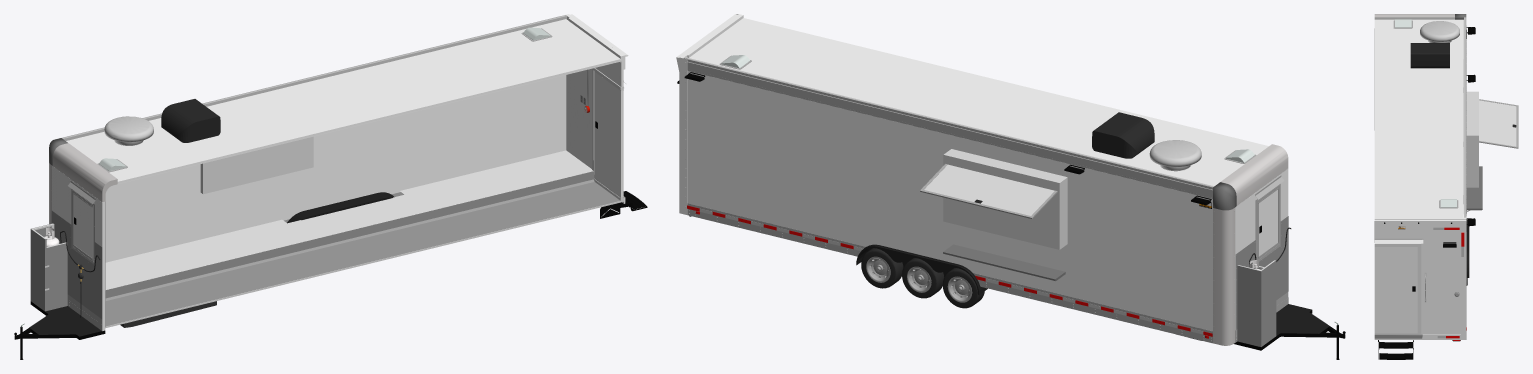
File: 30-serving.glb
3 renders of one model, left to right at view 1: azimuth 30°, elevation 25°; view 2: azimuth 150°, elevation 25°; view 3: azimuth 270°, elevation 25°, orthographic. The views are drawn at different scales.
Parts seen in each view (by area): view 1: Plane .006, 3DGeom-25.030, 3DGeom-54.001, floor, Entrance door with frame 72 x 36:Entrance door with frame 72, WindowBox, Propane tank storage:Propane tank storage:1964955.001, 3DGeom-19.009, 3DGeom-24.018, 3DGeom-18 .001, wrap_image_front.008, Emergency exit door 24 x 36 Emergency exit door 24 x 36_22d  (+9 smaller); view 2: wrap_image_right.030, 3DGeom-25.030, 3DGeom-26.032, WindowBox, Window, 3DGeom-18 .002, Propane tank storage:Propane tank storage:1964955.001, 3DGeom-21.005, 3DGeom-18 .001, Emergency exit door 24 x 36 Emergency exit door 24 x 36_22d , 3DGeom-66.010, back-bamper.029 (+12 smaller); view 3: 3DGeom-25.030, Entrance door with frame 72 x 36:Entrance door with frame 72, 3DGeom-19.016, back-bamper.029, Window, WindowBox, 3DGeom-64.001, 3DGeom-66.010, 3DGeom-56.022, 3DGeom-71.001, 3DGeom-24.018, 3DGeom-26.032 (+11 smaller).
Part boxes in pixels (bbox=[...]): Plane .006: bbox=[105, 62, 621, 326]; 3DGeom-25.030: bbox=[66, 19, 620, 183]; 3DGeom-54.001: bbox=[105, 171, 620, 326]; floor: bbox=[105, 150, 593, 289]; Entrance door with frame 72 x 36:Entrance door with frame 72: bbox=[592, 68, 625, 200]; WindowBox: bbox=[200, 136, 313, 194]; Propane tank storage:Propane tank storage:1964955.001: bbox=[30, 223, 67, 311]; 3DGeom-19.009: bbox=[51, 211, 102, 318]; 3DGeom-24.018: bbox=[62, 15, 620, 184]; 3DGeom-18 .001: bbox=[53, 143, 117, 202]; wrap_image_front.008: bbox=[52, 165, 105, 330]; Emergency exit door 24 x 36 Emergency exit door 24 x 36_22d : bbox=[68, 181, 95, 264]; wrap_image_right.030: bbox=[687, 71, 1212, 331]; 3DGeom-25.030: bbox=[689, 18, 1268, 186]; 3DGeom-26.032: bbox=[687, 59, 1288, 343]; WindowBox: bbox=[943, 149, 1067, 249]; Window: bbox=[920, 164, 1057, 218]; 3DGeom-18 .002: bbox=[1213, 207, 1235, 345]; Propane tank storage:Propane tank storage:1964955.001: bbox=[1237, 260, 1276, 346]; 3DGeom-21.005: bbox=[861, 248, 984, 308]; 3DGeom-18 .001: bbox=[1221, 144, 1288, 205]; Emergency exit door 24 x 36 Emergency exit door 24 x 36_22d : bbox=[1255, 175, 1284, 261]; 3DGeom-66.010: bbox=[1092, 112, 1154, 151]; back-bamper.029: bbox=[676, 14, 739, 214]; 3DGeom-25.030: bbox=[1374, 19, 1463, 217]; Entrance door with frame 72 x 36:Entrance door with frame 72: bbox=[1374, 238, 1423, 334]; 3DGeom-19.016: bbox=[1374, 230, 1460, 334]; back-bamper.029: bbox=[1374, 216, 1466, 339]; Window: bbox=[1479, 99, 1518, 148]; WindowBox: bbox=[1466, 91, 1478, 187]; 3DGeom-64.001: bbox=[1420, 21, 1459, 42]; 3DGeom-66.010: bbox=[1410, 43, 1449, 60]; 3DGeom-56.022: bbox=[1378, 340, 1413, 359]; 3DGeom-71.001: bbox=[1466, 166, 1482, 210]; 3DGeom-24.018: bbox=[1463, 17, 1465, 217]; 3DGeom-26.032: bbox=[1465, 17, 1466, 217].
Size of the model in its own units: 10.8 by 3.16 by 2.67.
77 materials, 2 textured.
